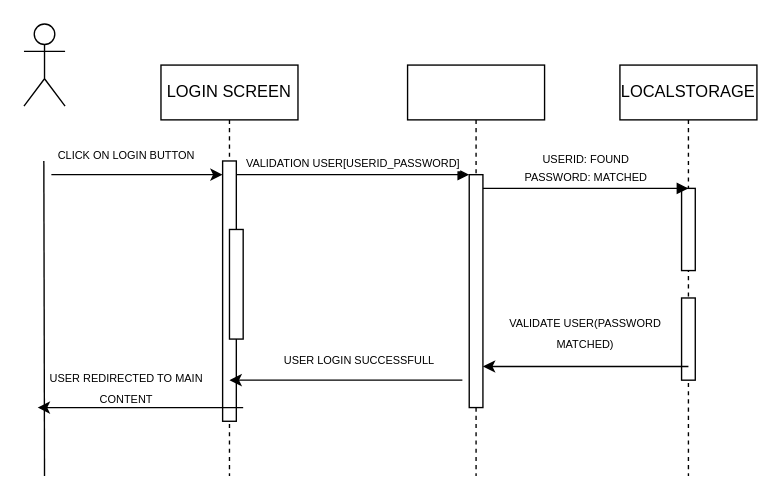
The diagram is 781 pixels wide and 501 high, and some of its shapes have lost their labels. The shapes that lost their labels are listed below. From the top down, each one's box as (x1, y1, x2, y2) in pixels, then its label:
(23, 23, 65, 106): User
(406, 64, 545, 476): VALIDATE USER
